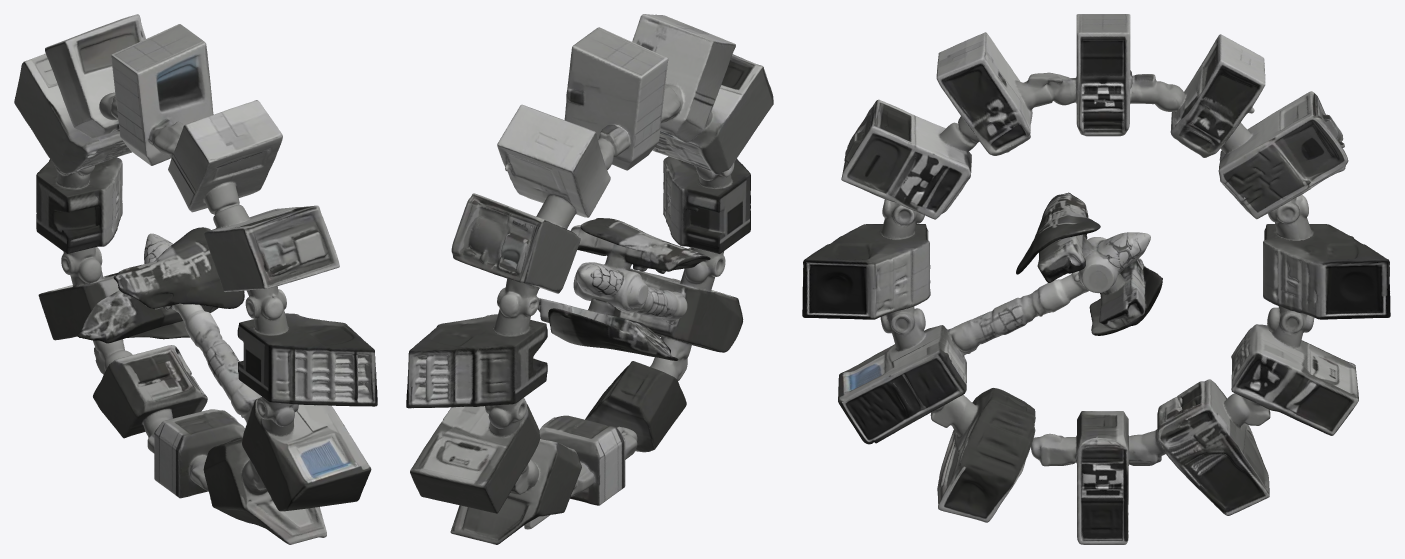
File: station.glb
The picture shows the model from 3 angles, left to right: view 1: azimuth 30°, elevation 25°; view 2: azimuth 150°, elevation 25°; view 3: azimuth 270°, elevation 25°; orthographic projection.
Parts seen in each view (by area): view 1: tripo_node_56376830-f92b-4e0c-ac2d-e82e2a13b52d; view 2: tripo_node_56376830-f92b-4e0c-ac2d-e82e2a13b52d; view 3: tripo_node_56376830-f92b-4e0c-ac2d-e82e2a13b52d.
Boxes of the visible parts, x1,y1,x2,y2 form: tripo_node_56376830-f92b-4e0c-ac2d-e82e2a13b52d: (14,14,377,544); tripo_node_56376830-f92b-4e0c-ac2d-e82e2a13b52d: (406,14,773,544); tripo_node_56376830-f92b-4e0c-ac2d-e82e2a13b52d: (802,14,1390,544).
Bounding box in the file's own units: 0.3037 × 0.9167 × 1.
Materials: 1 (1 with a texture image).
